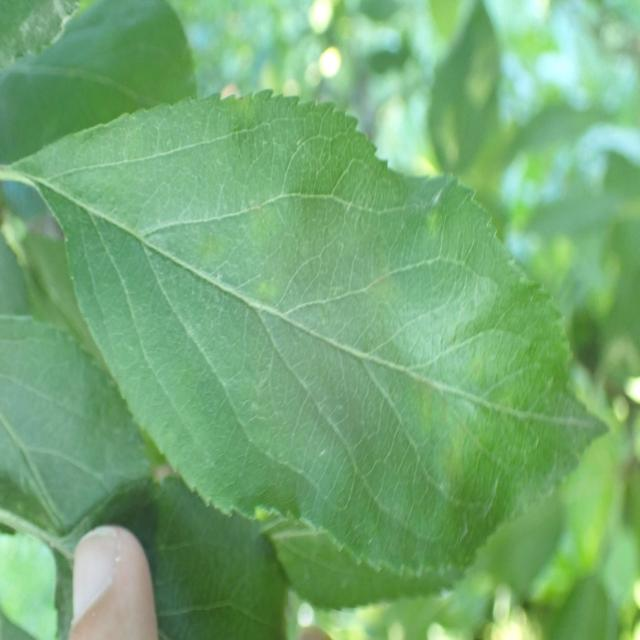scab: (80, 116, 543, 502)
